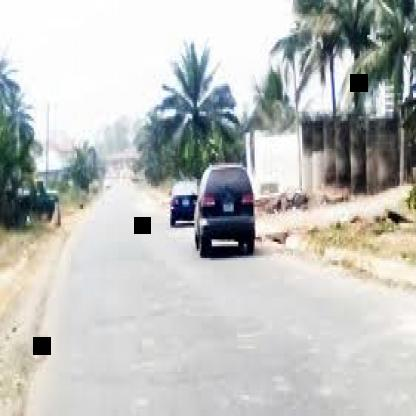car: (195, 160, 274, 262), (165, 166, 229, 226)
